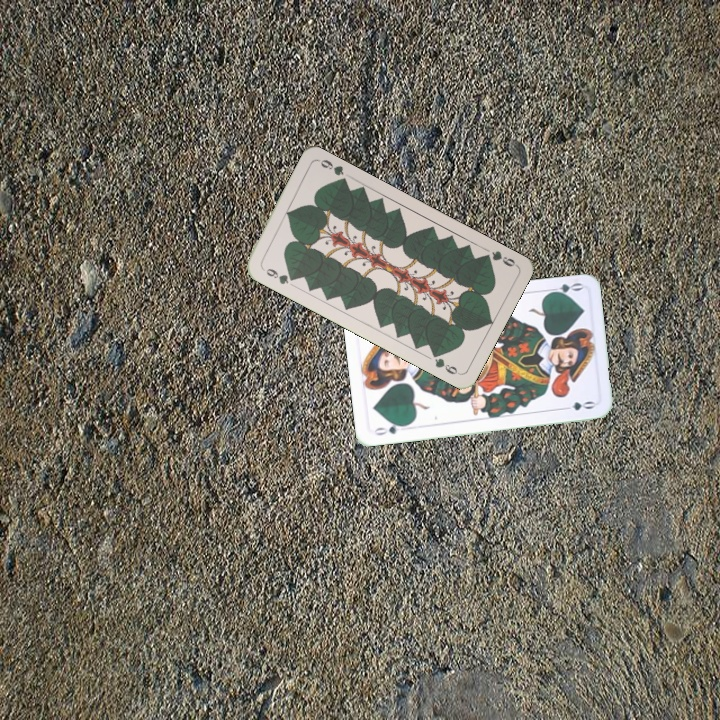G9: (258, 263, 298, 287), (478, 246, 519, 269)
GO: (370, 419, 410, 438), (544, 279, 584, 298)
